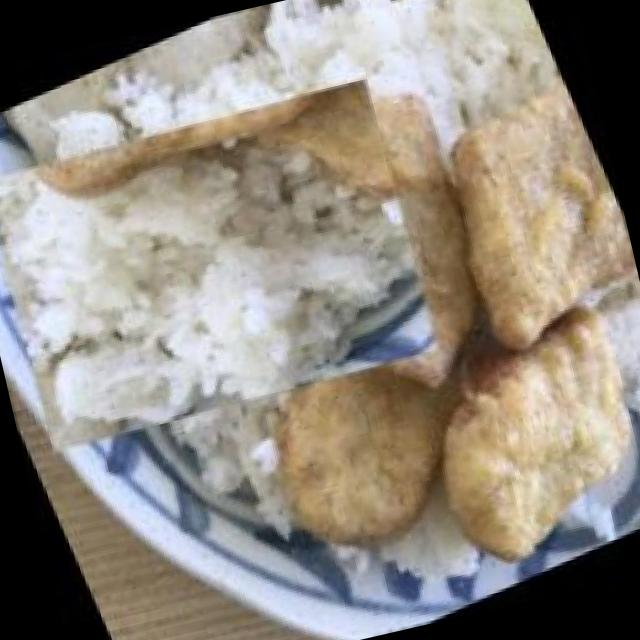chicken_nuggets: (101, 0, 640, 640)
rice: (0, 0, 482, 535)
